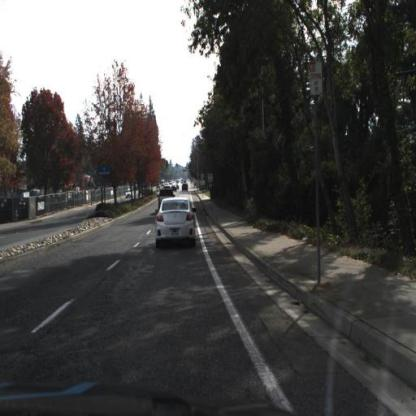car: (153, 197, 198, 252), (158, 186, 176, 206), (125, 188, 135, 200), (181, 182, 190, 195)
